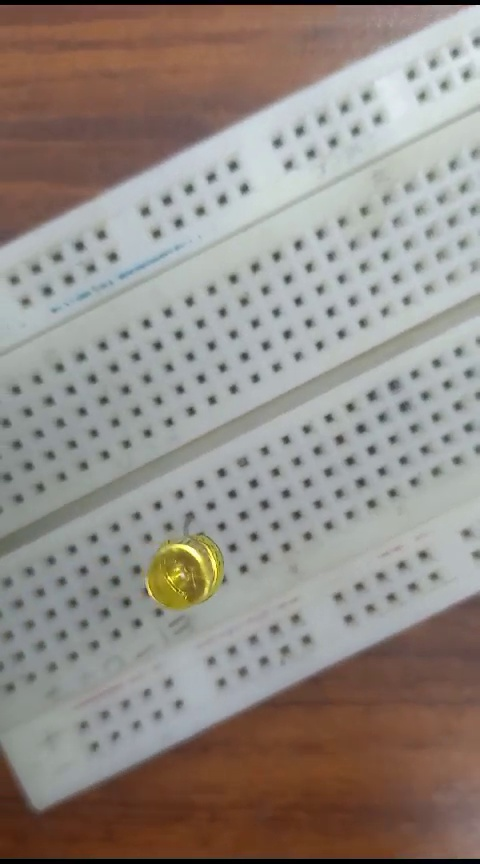LED: (130, 524, 222, 617)
